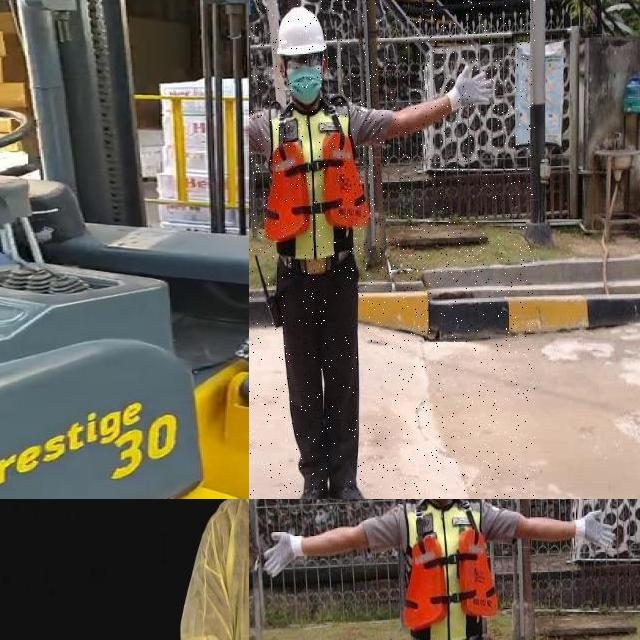BOOTS: (333, 467, 372, 499), (295, 469, 331, 499)
GLASS: (283, 54, 325, 69)
GLOVE: (448, 62, 496, 117), (263, 530, 307, 578), (576, 510, 616, 552)
HELMET: (275, 6, 331, 55)
VEST: (264, 104, 367, 260), (391, 499, 503, 640)
